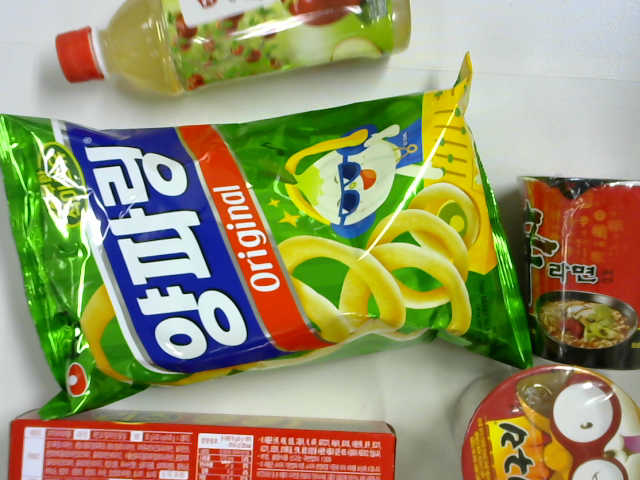Morning_Apple_500ml: (57, 1, 411, 97)
Oninon_Ring: (1, 51, 533, 421)
Raccoon: (445, 366, 640, 479)
Ritz_Cracker: (8, 408, 397, 480)
Sinramen_small: (517, 173, 640, 371)
